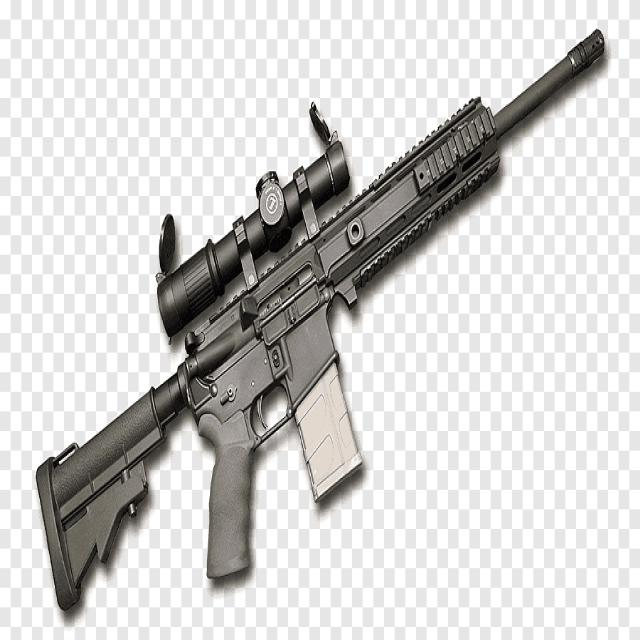Rifle: (37, 31, 608, 618)
